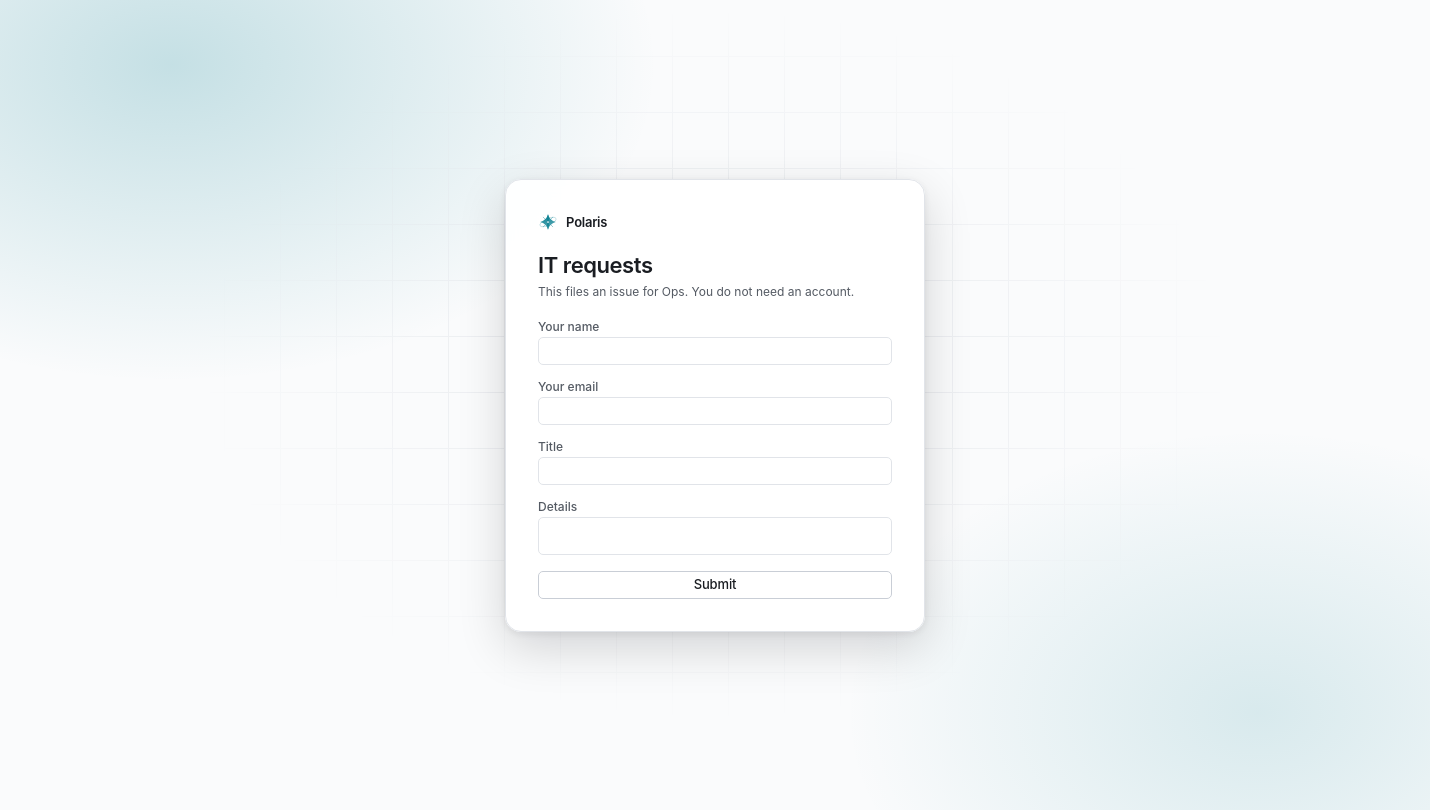
Test: AskFormPage › files a request and thanks the requester by team
This screenshot has width=1440, height=810.
Check: the heading "IT requests" is shown, box [538, 252, 652, 278]
In the field labelled "Your name": (715, 351) [547, 338, 883, 364], type "Ada"
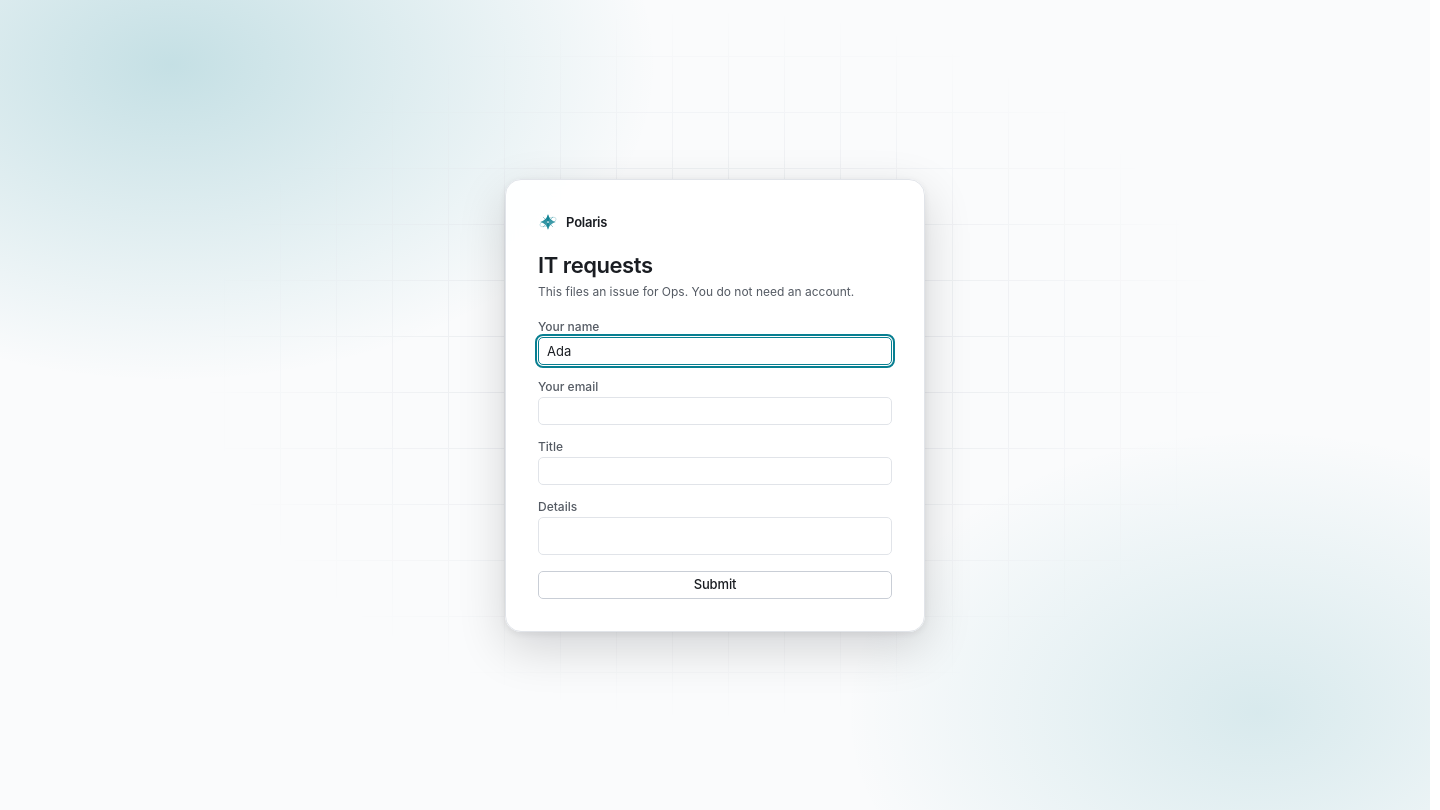
In the field labelled "Your email": (715, 411) [547, 398, 883, 424], type "ada@example.com"
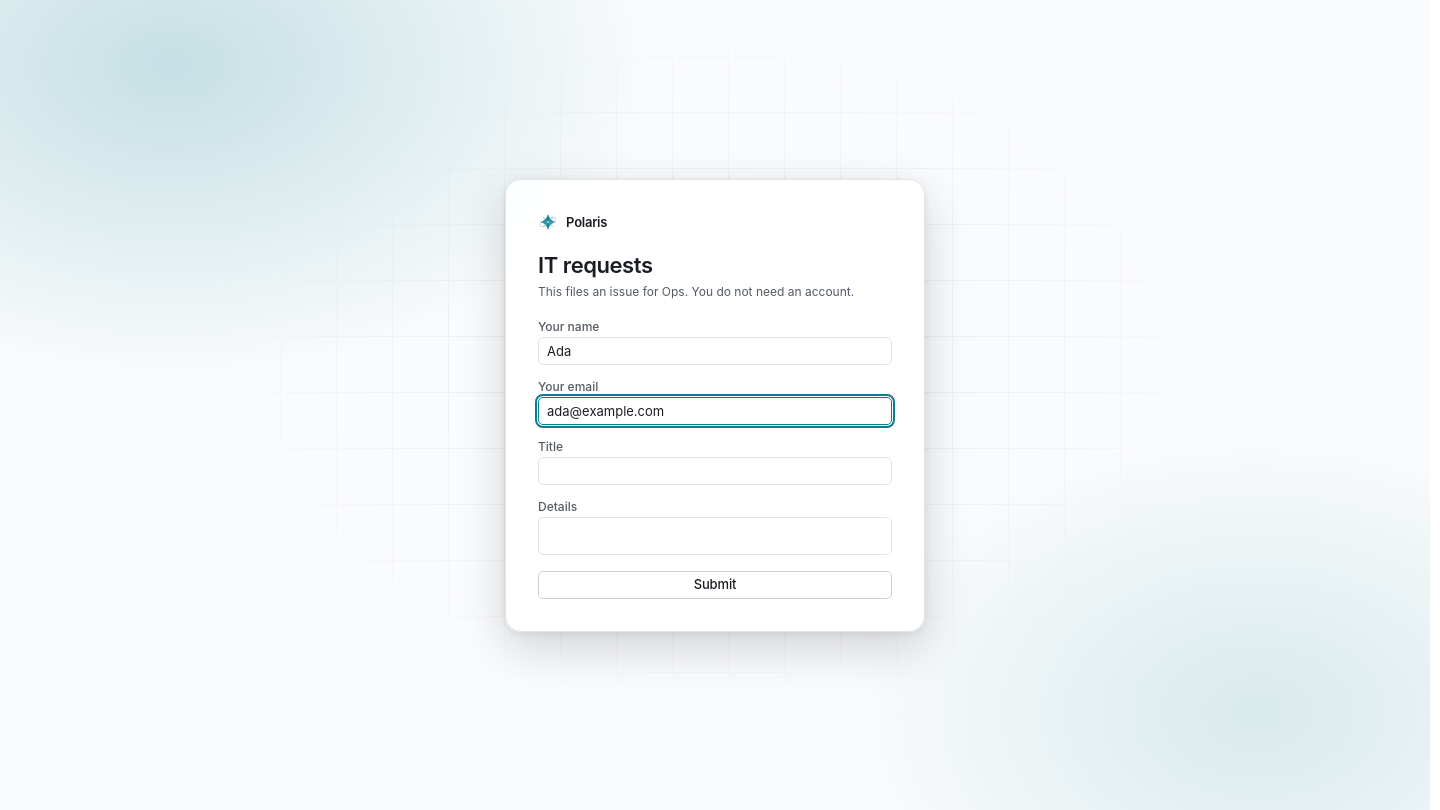
In the field labelled "Title": (715, 471) [547, 458, 883, 484], type "The printer is on fire"
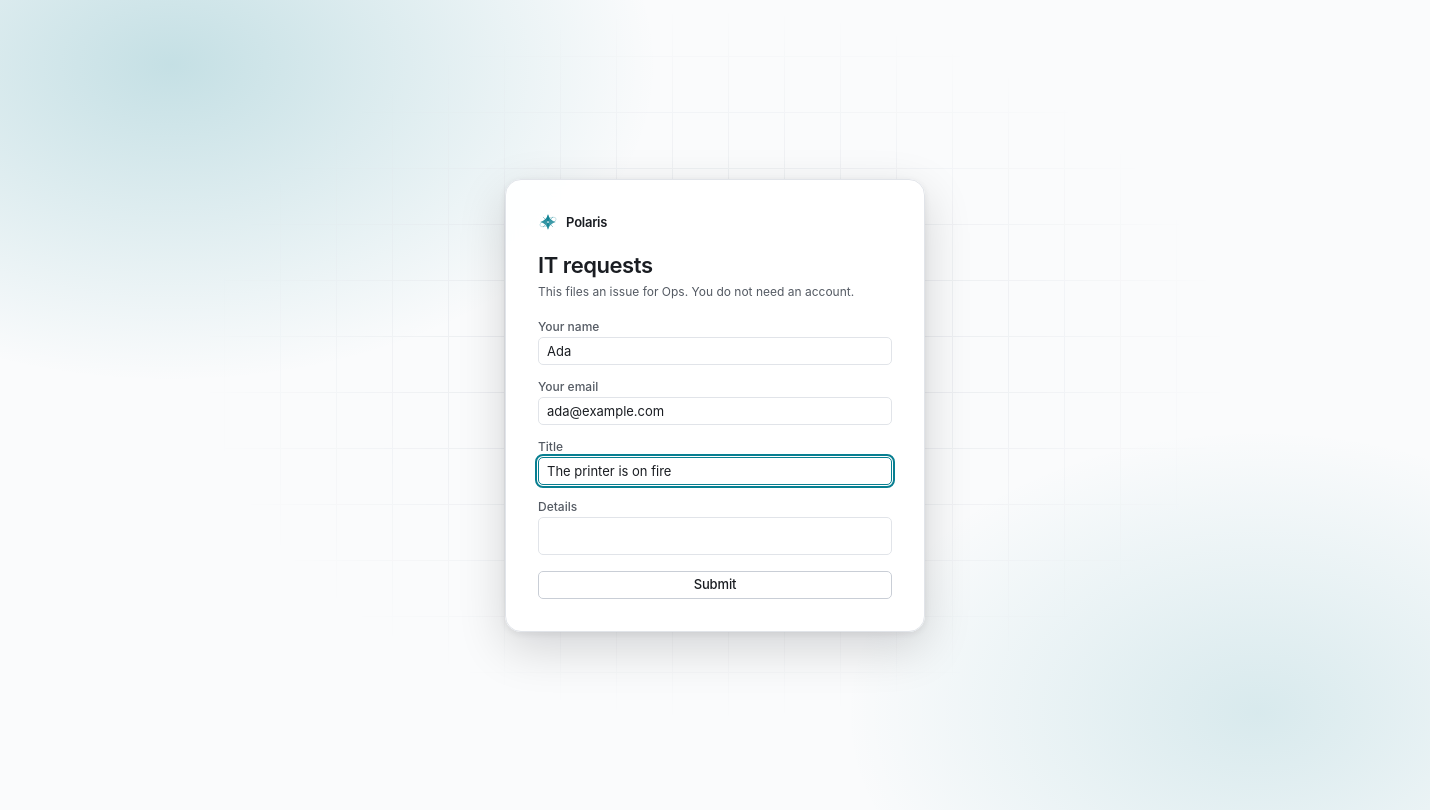
Click the button "Submit": (715, 584) [538, 570, 892, 598]
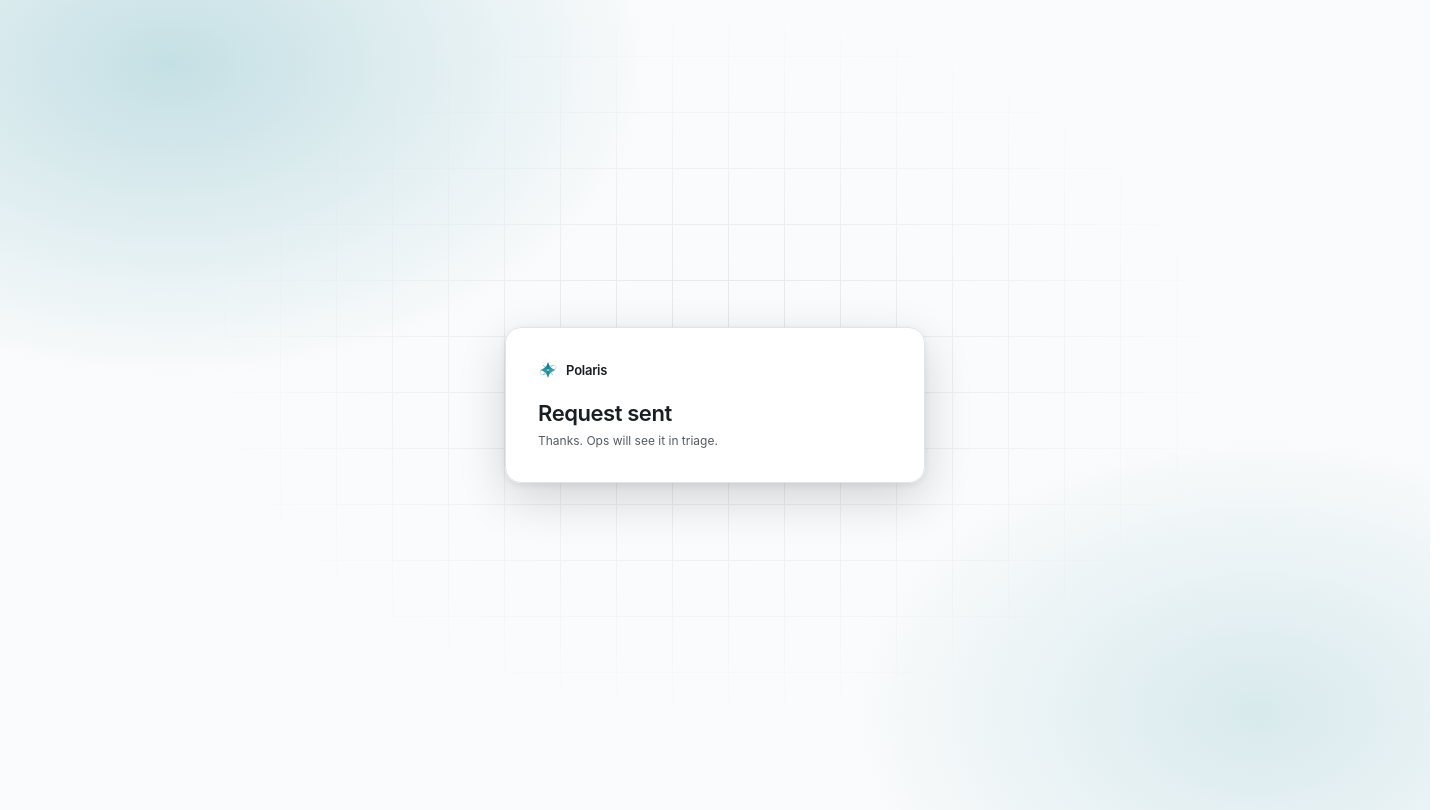
Check: the heading "Request sent" is shown, box [538, 400, 672, 426]
